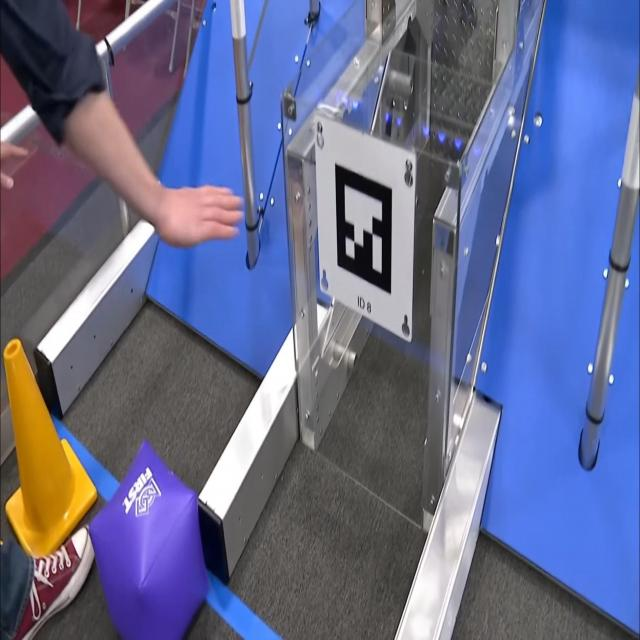frc_cone: (0, 328, 95, 565)
frc_cube: (88, 443, 212, 640)
